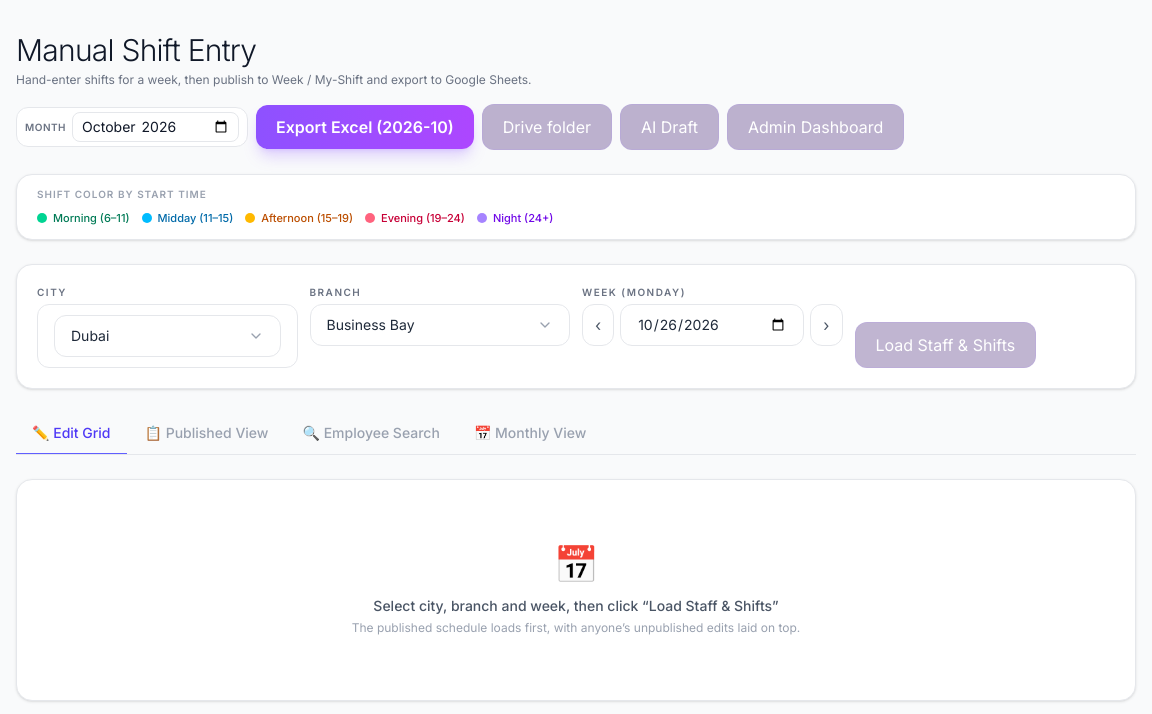
it: ManualShiftPage — page structure › offers the two ways shifts get loaded, once staff are on the grid
Click the button "Load Staff & Shifts". click: (945, 344)
box: [854,322,1036,368]
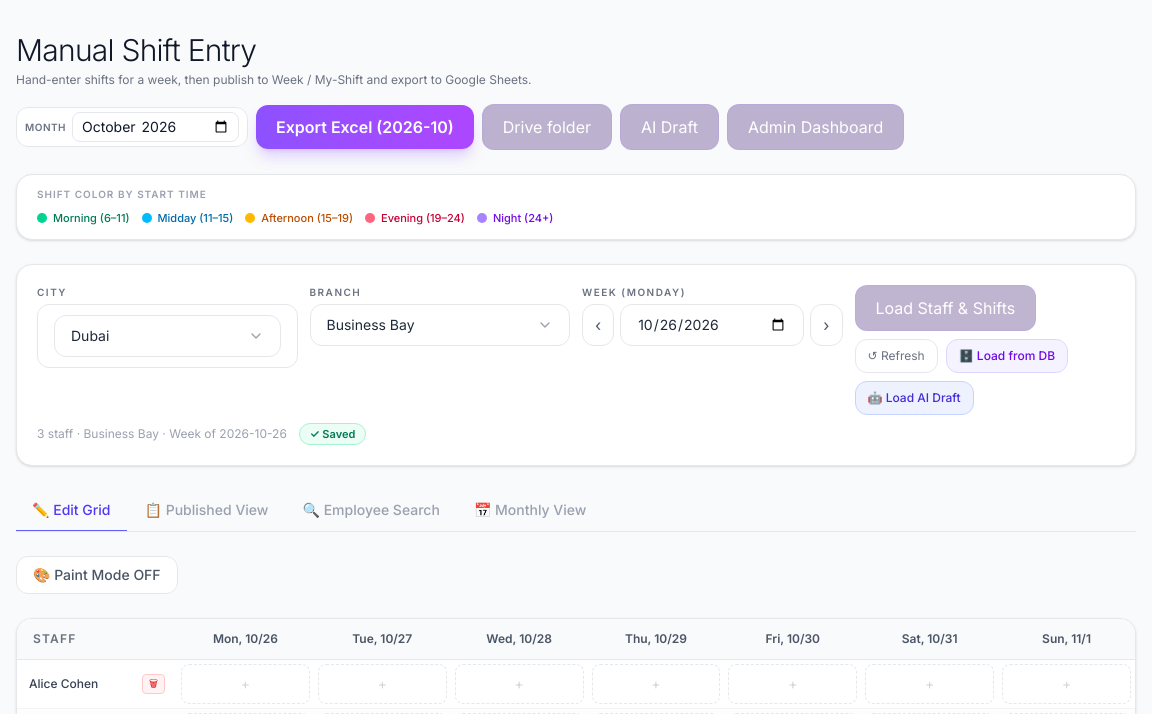
Result: the text "Alice Cohen" is shown at [29,676,98,692]
Result: the button "🗄️ Load from DB" is shown at [946,338,1068,372]
Result: the button "🤖 Load AI Draft" is shown at [854,380,974,414]
